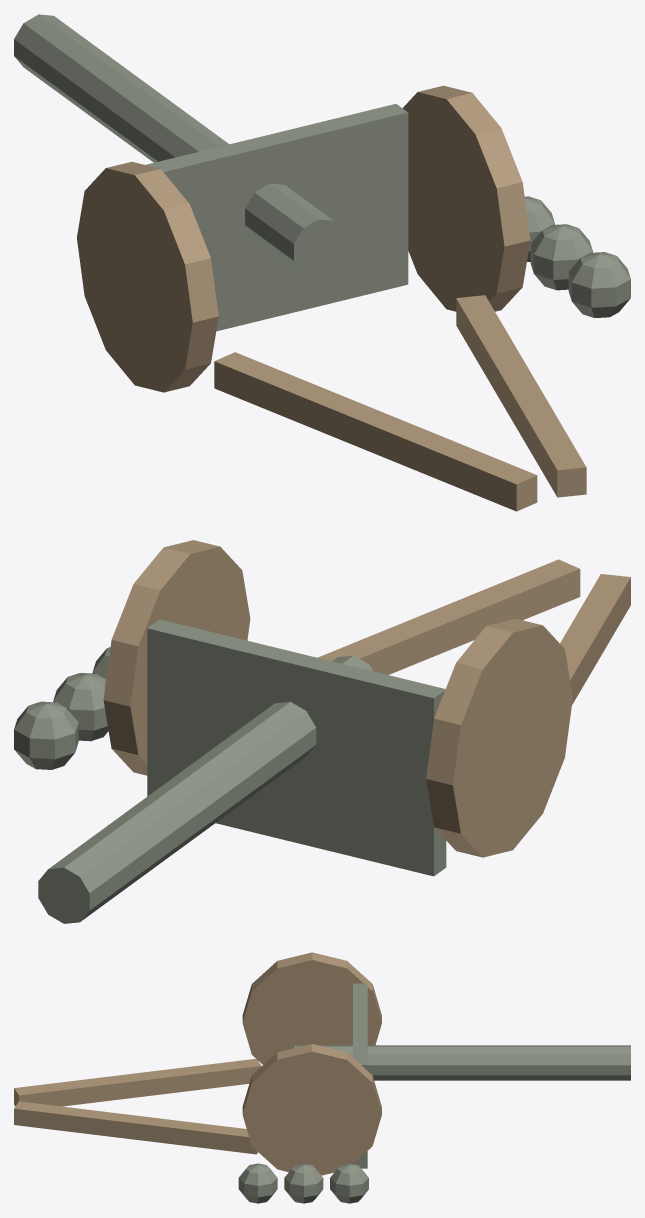
The model's file is arty.glb.
3 renders of one model, top to bottom at view 1: azimuth 30°, elevation 25°; view 2: azimuth 150°, elevation 25°; view 3: azimuth 270°, elevation 25°, orthographic. The views are drawn at different scales.
Visible parts, largest first — view 1: arty; view 2: arty; view 3: arty.
Part boxes in pixels (x1,y1,x2,y2): arty: (14, 14, 630, 511); arty: (14, 540, 630, 923); arty: (14, 952, 630, 1203).
Size of the model in its own units: 2.59 by 1.16 by 5.13.
